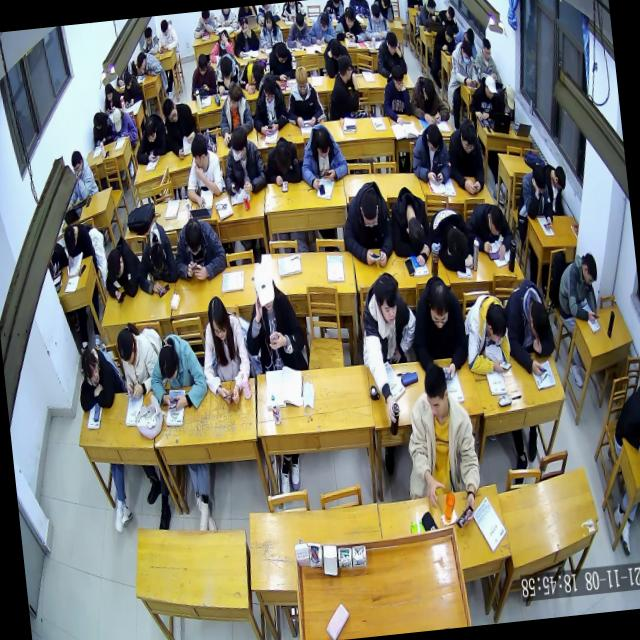bow: (501, 276, 557, 376), (146, 330, 208, 411), (461, 288, 512, 373), (386, 184, 434, 267), (132, 216, 180, 296), (170, 216, 227, 282), (74, 344, 122, 412), (465, 200, 514, 264), (428, 204, 473, 272), (100, 236, 143, 303), (407, 71, 450, 126), (264, 133, 302, 185), (132, 112, 170, 164), (236, 58, 267, 96), (321, 36, 349, 78), (334, 4, 364, 42), (134, 46, 164, 76), (206, 29, 234, 61), (432, 22, 455, 54), (436, 4, 459, 34)
down: (422, 364, 450, 420), (426, 278, 451, 328), (252, 262, 276, 312), (206, 294, 229, 342), (526, 298, 551, 336), (156, 342, 179, 382), (358, 188, 380, 225), (404, 216, 426, 252), (182, 216, 202, 254), (115, 326, 135, 362), (105, 247, 125, 280), (458, 120, 476, 154), (580, 252, 598, 286), (485, 201, 503, 233), (314, 127, 331, 160), (148, 240, 166, 270), (274, 137, 292, 165), (424, 122, 440, 152), (62, 224, 78, 251), (226, 80, 240, 110), (262, 72, 276, 102), (294, 64, 308, 94), (532, 165, 546, 195), (390, 62, 404, 91), (421, 74, 436, 100), (483, 74, 498, 100), (70, 149, 84, 176), (552, 164, 566, 191), (218, 56, 233, 80), (162, 98, 178, 120), (144, 118, 158, 143), (384, 30, 398, 55), (503, 82, 516, 108), (458, 39, 472, 63), (328, 38, 342, 60), (274, 42, 288, 64), (111, 107, 123, 132), (249, 60, 263, 80), (196, 51, 208, 74), (481, 37, 492, 60), (318, 10, 330, 31), (344, 4, 354, 26), (444, 22, 454, 44), (218, 29, 228, 50), (263, 9, 273, 29), (294, 10, 304, 30), (370, 2, 380, 22), (239, 17, 249, 36), (122, 69, 132, 88), (136, 51, 146, 70), (92, 112, 102, 130), (104, 82, 112, 102), (144, 26, 152, 46), (445, 4, 455, 20), (159, 18, 168, 35)
lookup: (374, 274, 398, 324)
sit: (398, 363, 485, 529), (354, 270, 426, 424), (238, 260, 308, 376), (406, 273, 469, 381), (196, 294, 253, 406), (338, 178, 394, 268), (179, 130, 225, 210), (296, 120, 348, 190), (554, 252, 602, 326), (220, 122, 266, 194), (116, 326, 160, 397), (446, 118, 486, 194), (408, 121, 452, 185), (282, 62, 325, 126), (514, 163, 554, 230), (248, 72, 289, 136), (324, 54, 362, 120), (216, 79, 254, 142), (162, 96, 196, 160), (378, 61, 411, 124), (447, 39, 478, 90), (374, 29, 407, 76), (466, 74, 499, 120), (69, 146, 98, 198), (62, 222, 96, 266), (262, 41, 297, 83), (186, 51, 216, 98), (472, 36, 501, 84), (212, 51, 241, 96), (544, 160, 568, 214), (230, 14, 260, 56), (362, 1, 391, 40), (306, 8, 336, 44), (284, 10, 312, 48), (110, 105, 138, 143), (256, 8, 283, 46), (496, 82, 517, 124), (91, 110, 115, 146), (155, 17, 179, 51), (120, 68, 142, 105), (102, 81, 122, 112), (138, 24, 158, 54), (416, 0, 437, 25)
